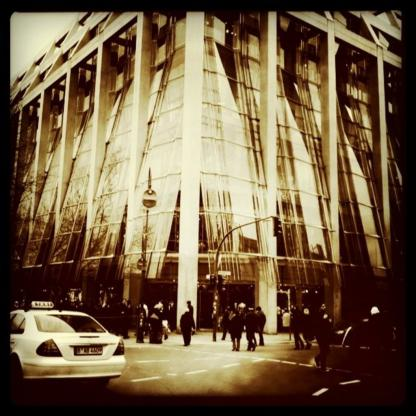Car: (10, 302, 126, 389)
